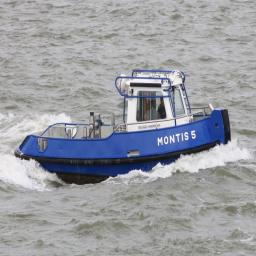tugboat: (13, 68, 236, 194)
